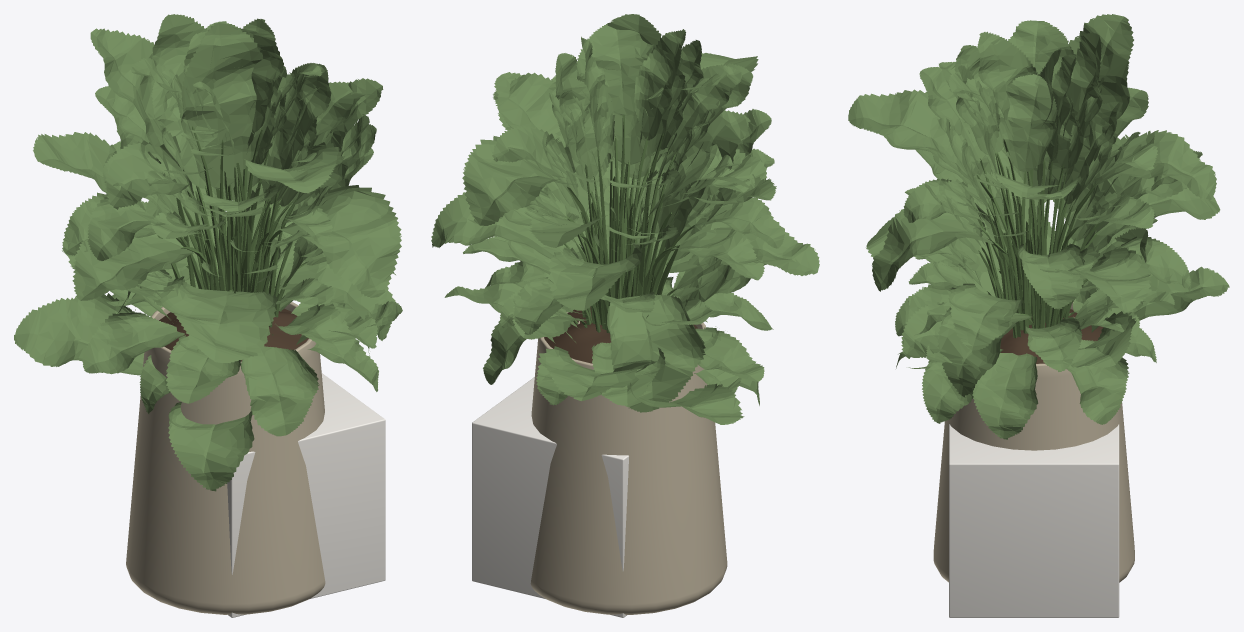
Rendered from plants.glb.
3 renders of one model, left to right at view 1: azimuth 30°, elevation 25°; view 2: azimuth 150°, elevation 25°; view 3: azimuth 270°, elevation 25°, orthographic. The views are drawn at different scales.
Visible parts, largest first — view 1: PlantTallB_plant, PlantLowB_pot, PlantLowA_plant, PlantLowB_plant, PlantTallA_plant, PlantTallB_plinth; view 2: PlantLowB_pot, PlantTallB_plant, PlantLowB_plant, PlantTallA_plant, PlantLowA_plant, PlantTallB_plinth; view 3: PlantTallB_plant, PlantTallB_plinth, PlantLowB_plant, PlantTallA_plant, PlantLowA_plant, PlantLowB_pot.
Boxes of the visible parts, box(x1,y1,x2,y2) form: PlantTallB_plant: box(62, 18, 402, 436); PlantLowB_pot: box(126, 302, 325, 614); PlantLowA_plant: box(14, 21, 383, 491); PlantLowB_plant: box(72, 14, 401, 363); PlantTallA_plant: box(87, 31, 376, 292); PlantTallB_plinth: box(227, 373, 385, 617); PlantLowB_pot: box(530, 306, 727, 614); PlantTallB_plant: box(463, 26, 773, 405); PlantLowB_plant: box(431, 53, 819, 412); PlantTallA_plant: box(522, 24, 784, 332); PlantLowA_plant: box(444, 14, 776, 424); PlantTallB_plinth: box(472, 377, 628, 617); PlantTallB_plant: box(895, 45, 1190, 439); PlantTallB_plinth: box(949, 424, 1119, 617); PlantLowB_plant: box(848, 32, 1220, 397); PlantTallA_plant: box(903, 20, 1202, 327); PlantLowA_plant: box(901, 14, 1229, 368); PlantLowB_pot: box(933, 302, 1134, 582).
Size of the model in its own units: 0.6284 by 1 by 0.6674.
